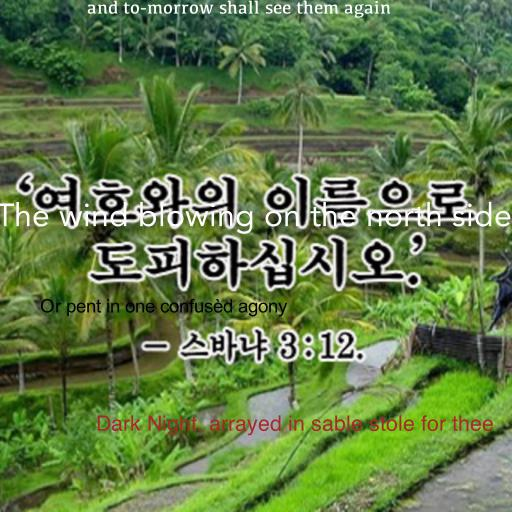Arial: (39, 298, 287, 317)
Avenir: (0, 201, 512, 234)
Kefa: (87, 0, 391, 18)
SF Pro: (96, 415, 494, 436)
